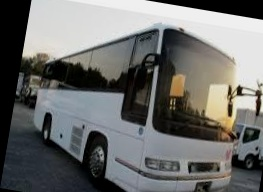bus: (22, 4, 254, 192)
